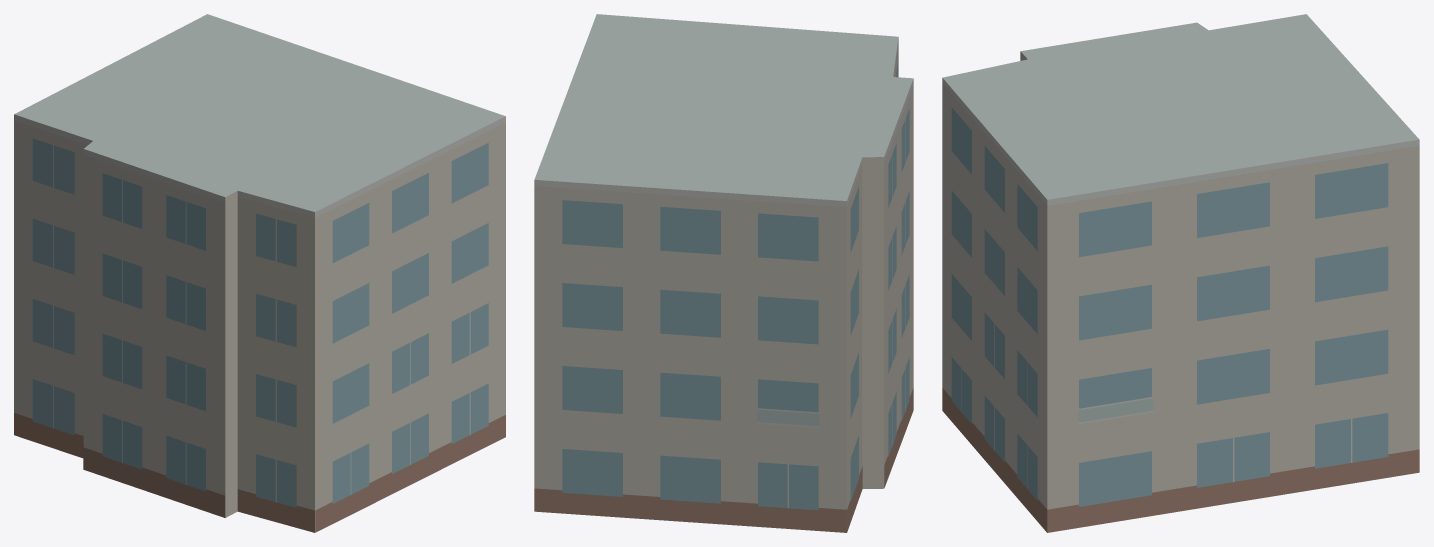
The model's file is survey-upis-32963438.glb.
The picture shows the model from 3 angles, left to right: view 1: azimuth 30°, elevation 25°; view 2: azimuth 150°, elevation 25°; view 3: azimuth 270°, elevation 25°; orthographic projection. The views are drawn at different scales.
Parts seen in each view (by area): view 1: survey-upis-32963438.tmp; view 2: survey-upis-32963438.tmp; view 3: survey-upis-32963438.tmp.
Part boxes in pixels (bbox=[...]): survey-upis-32963438.tmp: bbox=[14, 14, 505, 532]; survey-upis-32963438.tmp: bbox=[534, 14, 913, 532]; survey-upis-32963438.tmp: bbox=[942, 14, 1419, 532].
Size of the model in its own units: 15.93 by 13.3 by 17.28.
